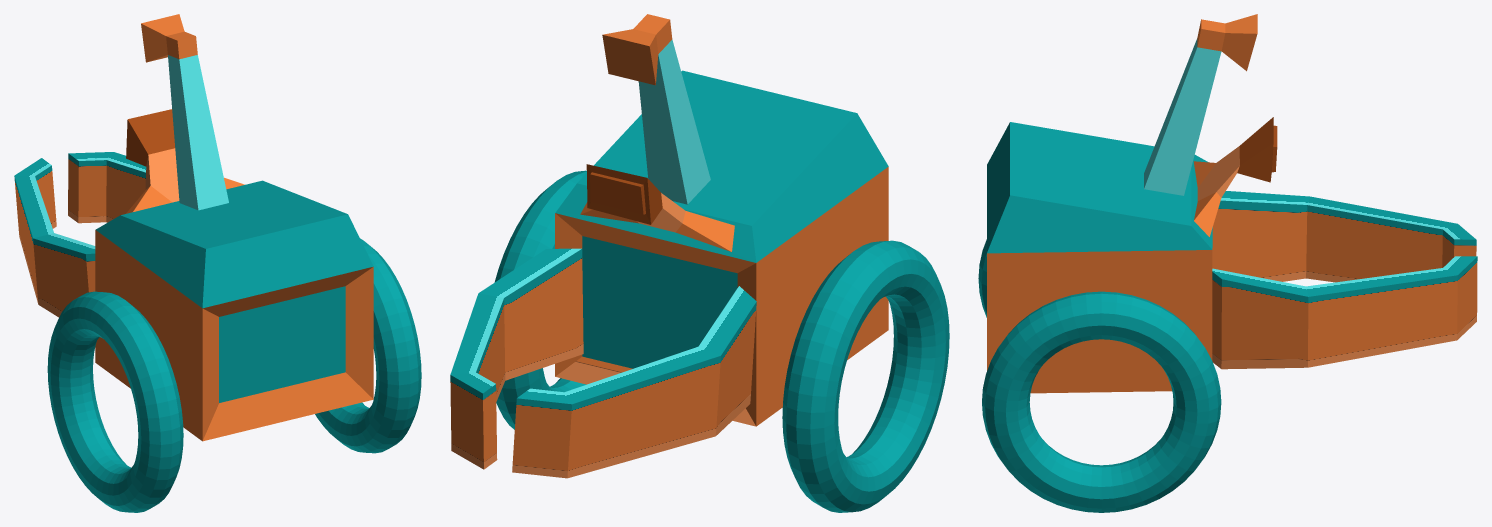
File: Machine.glb
3 renders of one model, left to right at view 1: azimuth 30°, elevation 25°; view 2: azimuth 150°, elevation 25°; view 3: azimuth 270°, elevation 25°, orthographic. The views are drawn at different scales.
Visible parts, largest first — view 1: Body, WheelL, WheelR, GripL, GripR; view 2: Body, WheelL, GripL, GripR, WheelR; view 3: Body, WheelR, GripR, GripL.
Boxes of the visible parts, x1=… form: Body: x1=95, y1=14, x2=373, y2=441; WheelL: x1=47, y1=291, x2=183, y2=512; WheelR: x1=315, y1=238, x2=421, y2=453; GripL: x1=14, y1=158, x2=95, y2=317; GripR: x1=68, y1=152, x2=146, y2=223; Body: x1=555, y1=14, x2=888, y2=426; WheelL: x1=782, y1=240, x2=949, y2=512; GripL: x1=512, y1=286, x2=756, y2=478; GripR: x1=450, y1=248, x2=583, y2=469; WheelR: x1=494, y1=170, x2=586, y2=429; Body: x1=987, y1=14, x2=1277, y2=393; WheelR: x1=982, y1=291, x2=1221, y2=512; GripR: x1=1212, y1=256, x2=1477, y2=369; GripL: x1=1212, y1=191, x2=1476, y2=282.
Bounding box in the file's own units: 2.27 × 3.12 × 3.32.
Materials: 1 (1 with a texture image).
